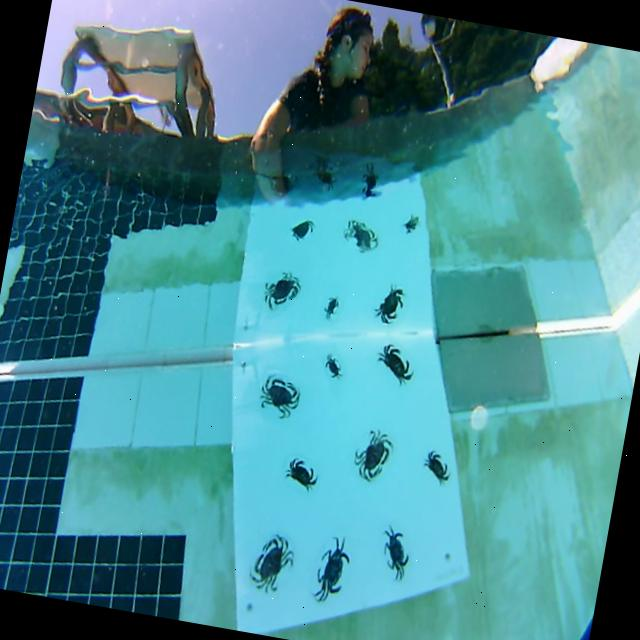green_crab: (313, 537, 349, 601), (384, 525, 408, 579), (325, 354, 340, 377)
jonah_crab: (250, 535, 293, 591), (354, 430, 392, 481), (261, 376, 299, 417)
rock_crab: (378, 344, 412, 384), (286, 458, 316, 490), (424, 451, 449, 482)
